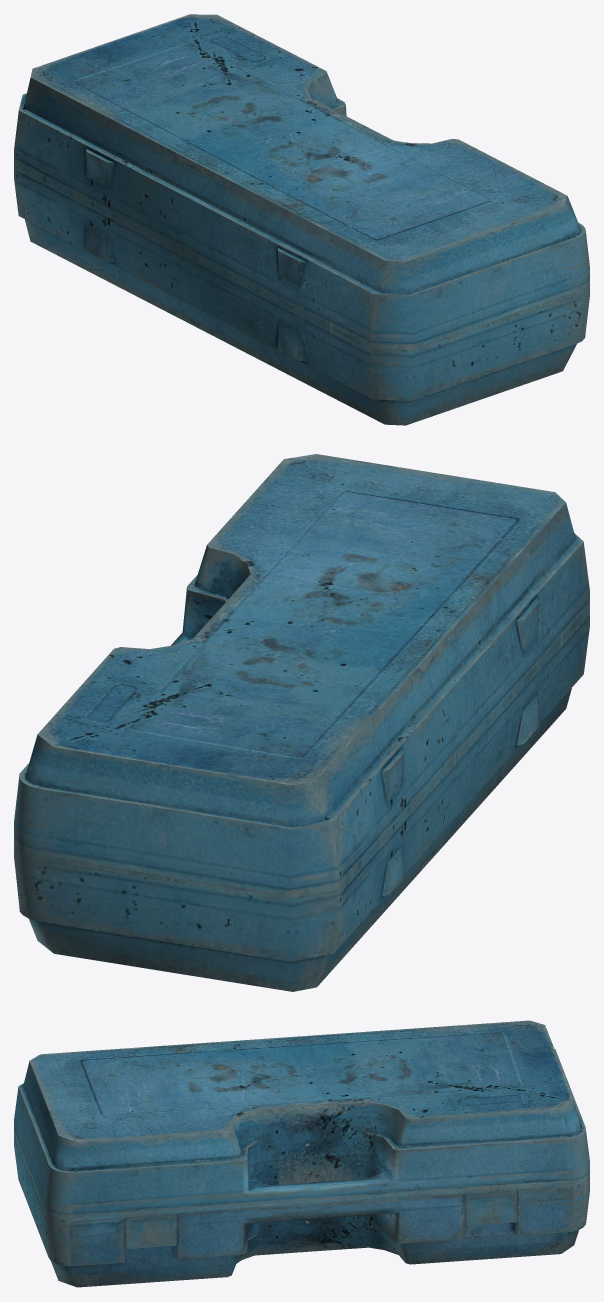
File: instrumentbox.fbx
3 views of the same model, one above another, from view 1: azimuth 30°, elevation 25°; view 2: azimuth 150°, elevation 25°; view 3: azimuth 270°, elevation 25° (orthographic). The views are drawn at different scales.
Visible parts, largest first — view 1: mesh_0.1909; view 2: mesh_0.1909; view 3: mesh_0.1909.
Part boxes in pixels (x1,y1,x2,y2): mesh_0.1909: (14, 14, 589, 425); mesh_0.1909: (14, 454, 589, 991); mesh_0.1909: (14, 1020, 589, 1287).
Size of the model in its own units: 0.4837 by 0.2418 by 0.8688.
